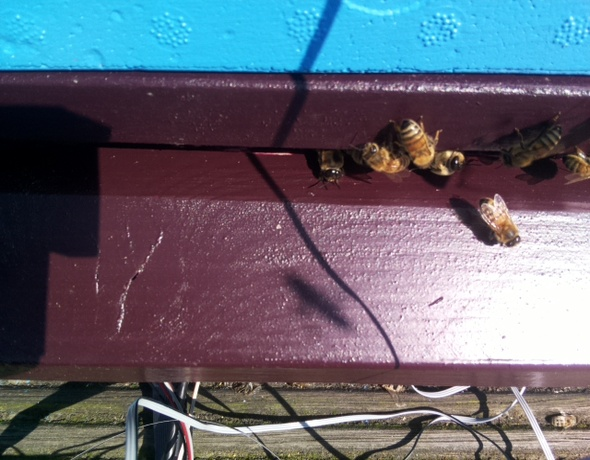no_pollen: (496, 120, 562, 174), (472, 194, 523, 252), (395, 117, 439, 172), (357, 141, 411, 176), (314, 140, 348, 187), (422, 147, 466, 180), (560, 150, 590, 181)
